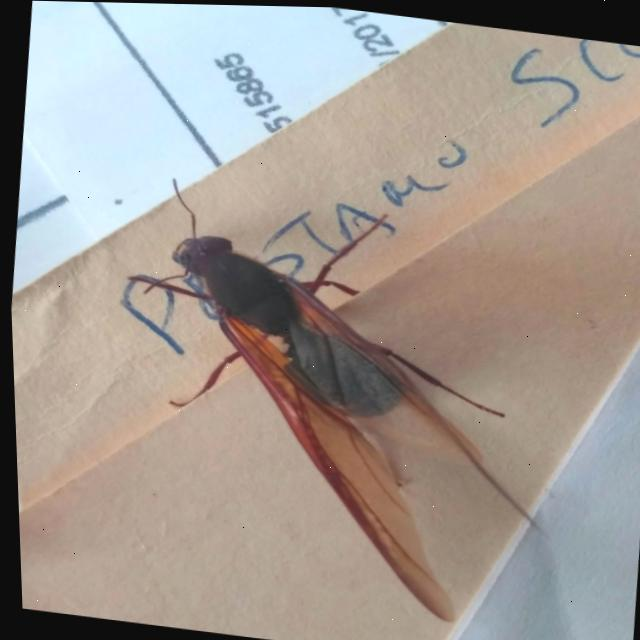Alive-Female-Alate: (89, 171, 582, 633)
